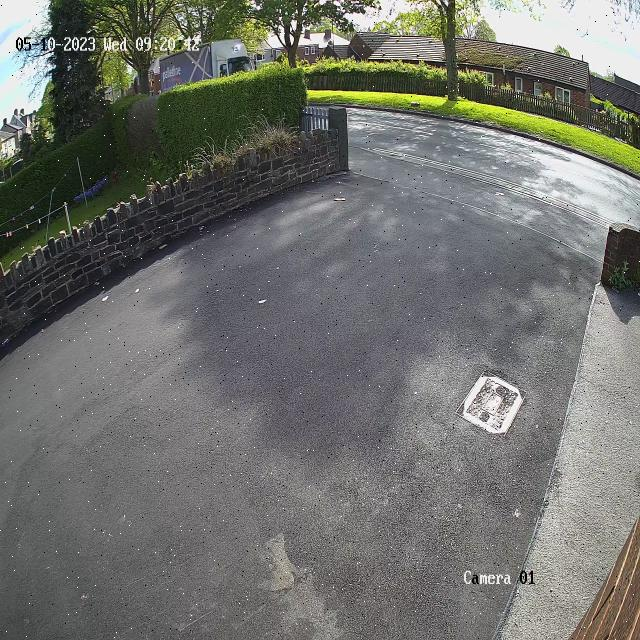vehicle: (153, 38, 259, 92)
